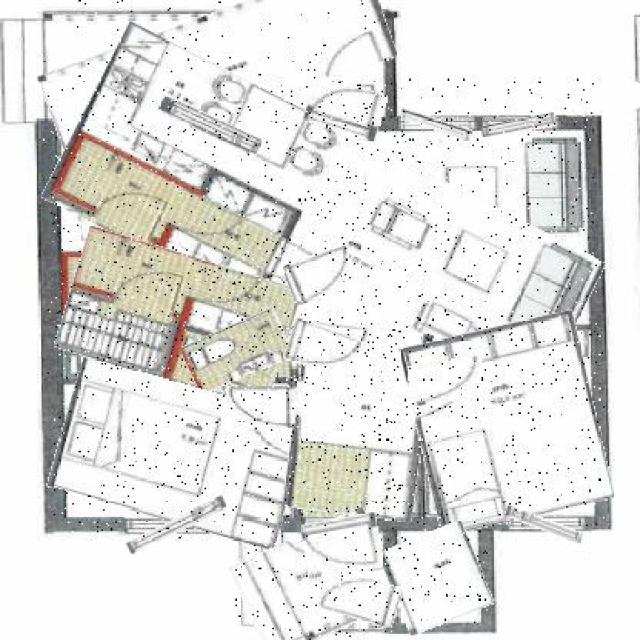door: (303, 516, 382, 578), (315, 569, 400, 623), (306, 80, 386, 137), (286, 323, 359, 374), (286, 249, 357, 300), (409, 358, 486, 404), (228, 388, 298, 428)
window: (157, 106, 261, 146), (125, 509, 228, 543), (504, 512, 584, 536), (400, 114, 474, 134), (482, 116, 556, 136)
zone: (48, 77, 597, 385), (40, 0, 394, 145), (409, 318, 605, 528), (54, 372, 301, 536), (62, 240, 296, 397), (288, 324, 429, 518), (235, 518, 397, 640), (386, 528, 488, 629), (183, 317, 291, 388)
